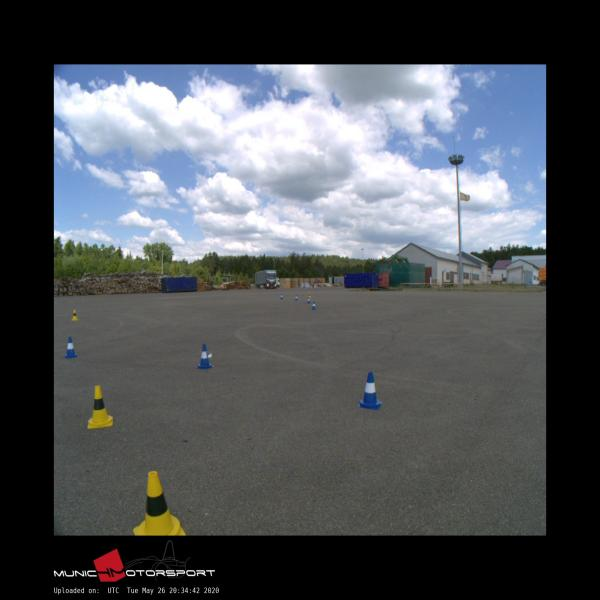blue_cone: (357, 372, 382, 409), (196, 344, 212, 368), (64, 337, 78, 357), (312, 301, 316, 310), (306, 297, 310, 303), (294, 294, 298, 300), (280, 294, 283, 299)
yellow_cone: (134, 472, 186, 535), (87, 386, 112, 428), (71, 310, 78, 320), (308, 292, 311, 298)
